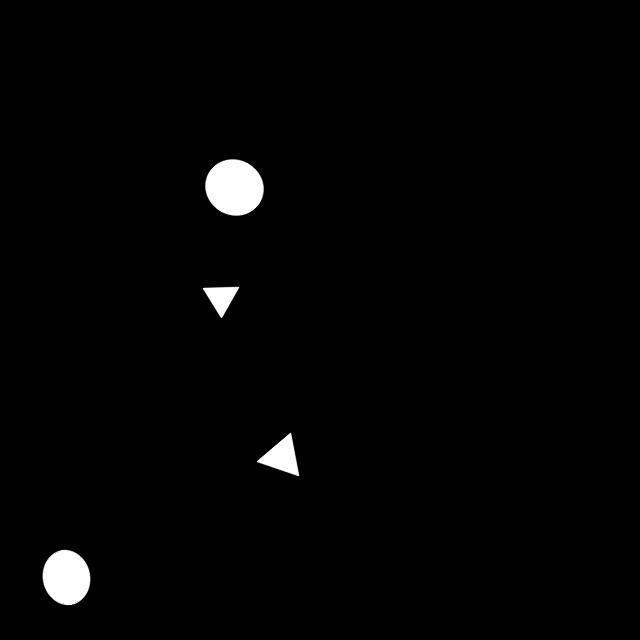Circle: (193, 148, 277, 227), (32, 544, 101, 613)
Triangle: (243, 422, 313, 491), (193, 279, 248, 330)
